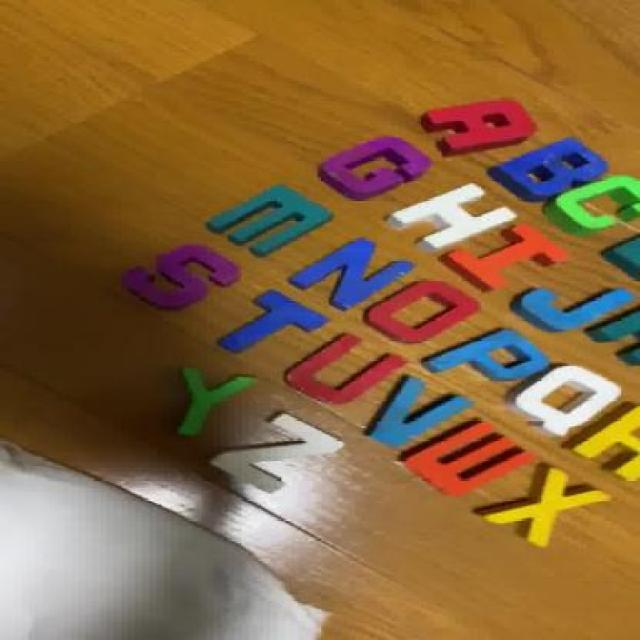A: (422, 98, 530, 148)
B: (488, 140, 610, 197)
C: (538, 172, 640, 235)
G: (319, 140, 433, 195)
H: (386, 186, 508, 252)
I: (442, 223, 568, 289)
J: (500, 290, 632, 332)
M: (218, 187, 342, 255)
N: (283, 242, 409, 310)
O: (370, 279, 481, 344)
P: (423, 331, 548, 383)
Q: (516, 366, 618, 434)
S: (130, 245, 238, 309)
T: (216, 291, 324, 349)
U: (286, 334, 402, 406)
V: (368, 374, 472, 452)
W: (400, 422, 531, 496)
X: (492, 466, 616, 545)
Y: (166, 368, 252, 438)
Z: (217, 415, 349, 491)
